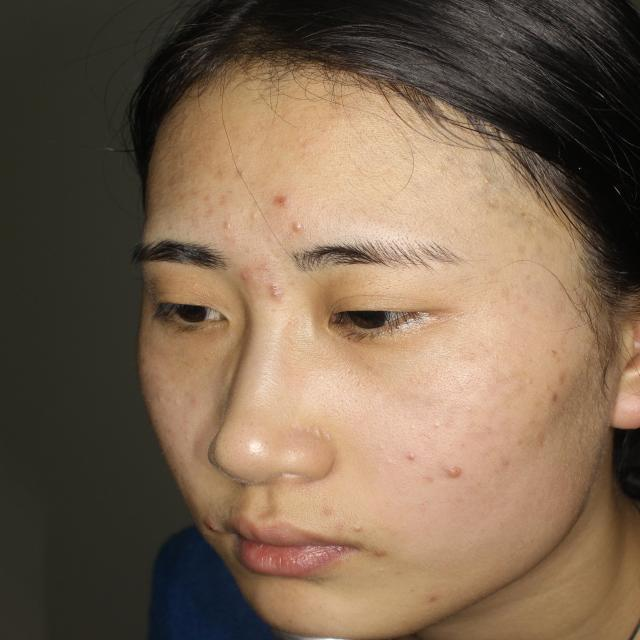acne: (440, 459, 473, 491), (258, 190, 294, 214), (202, 512, 229, 540), (367, 537, 393, 566), (284, 217, 309, 238), (243, 261, 264, 283), (268, 279, 286, 302)
